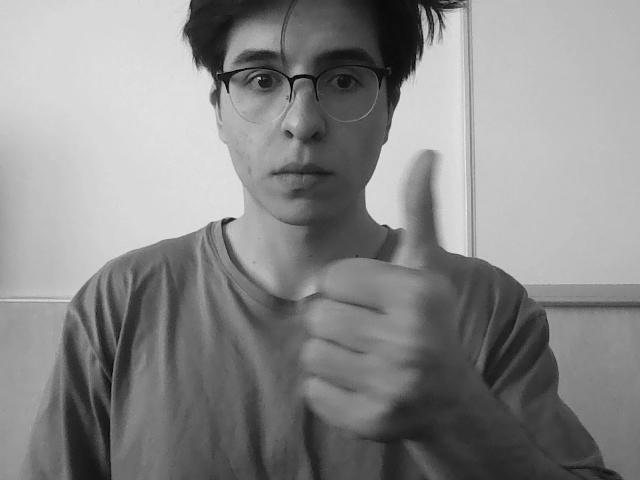good: (318, 154, 478, 444)
